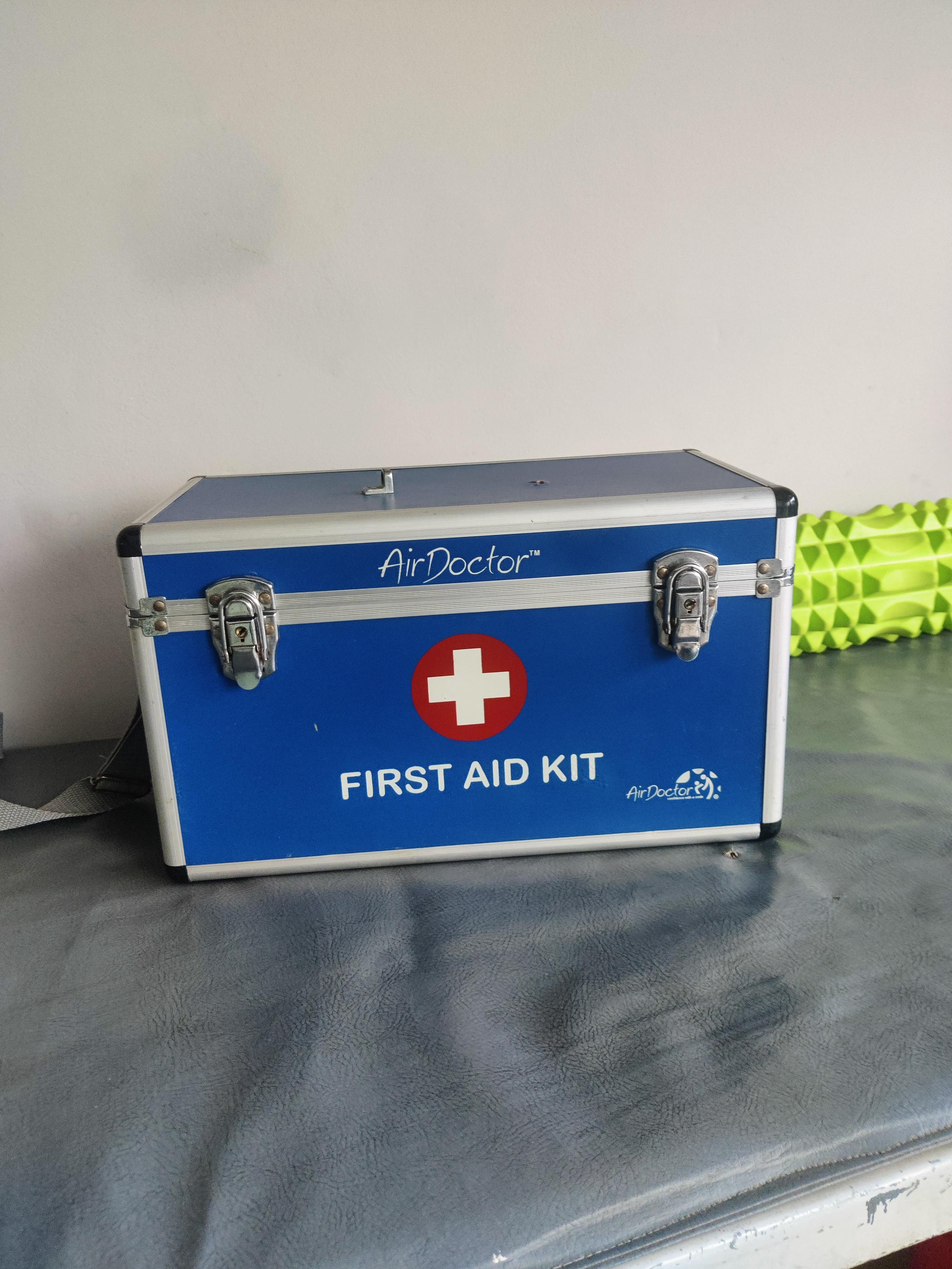FirstAidBox: (95, 431, 806, 886)
